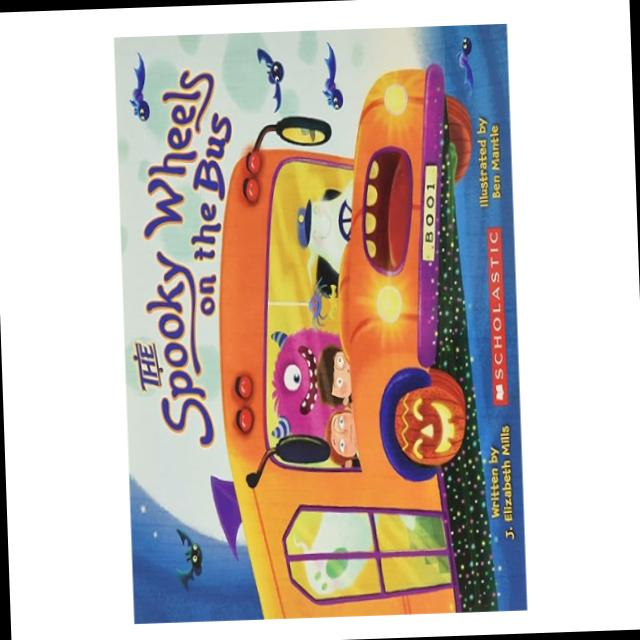titles-or-authors: (115, 56, 249, 452), (497, 414, 518, 547)
